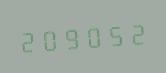five: (106, 18, 127, 49)
nine: (62, 21, 83, 52)
two: (17, 24, 38, 56), (128, 16, 149, 48)
zero: (84, 19, 105, 51), (39, 23, 60, 54)
